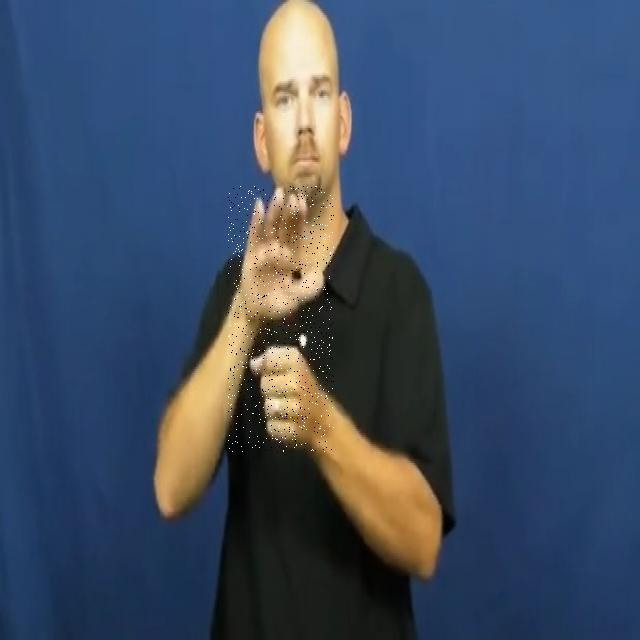soda: (228, 186, 334, 452)
